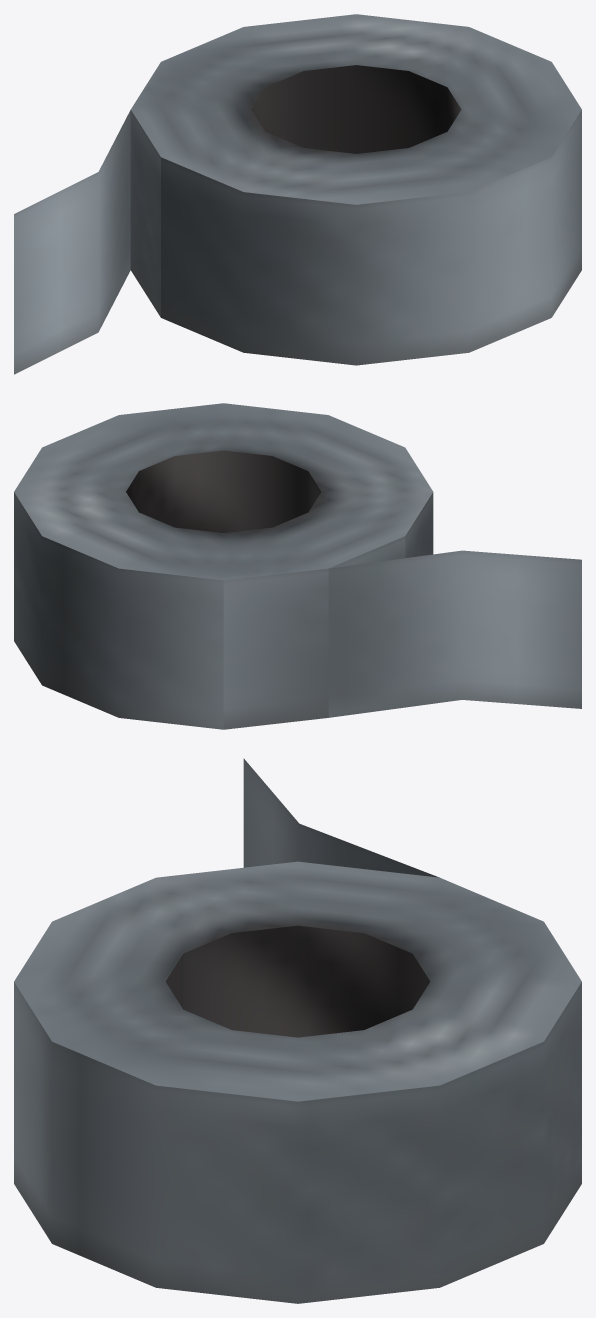
File: ducktape.FBX
3 renders of one model, top to bottom at view 1: azimuth 30°, elevation 25°; view 2: azimuth 150°, elevation 25°; view 3: azimuth 270°, elevation 25°, orthographic. The views are drawn at different scales.
Visible parts, largest first — view 1: InventoryItem_DuckTape; view 2: InventoryItem_DuckTape; view 3: InventoryItem_DuckTape.
Boxes of the visible parts, left/top/right/bottom form: InventoryItem_DuckTape: left=14, top=14, right=581, bottom=374; InventoryItem_DuckTape: left=14, top=403, right=581, bottom=729; InventoryItem_DuckTape: left=14, top=758, right=581, bottom=1303.
Size of the model in its own units: 217 by 152 by 59.56.
1 material, 1 textured.
